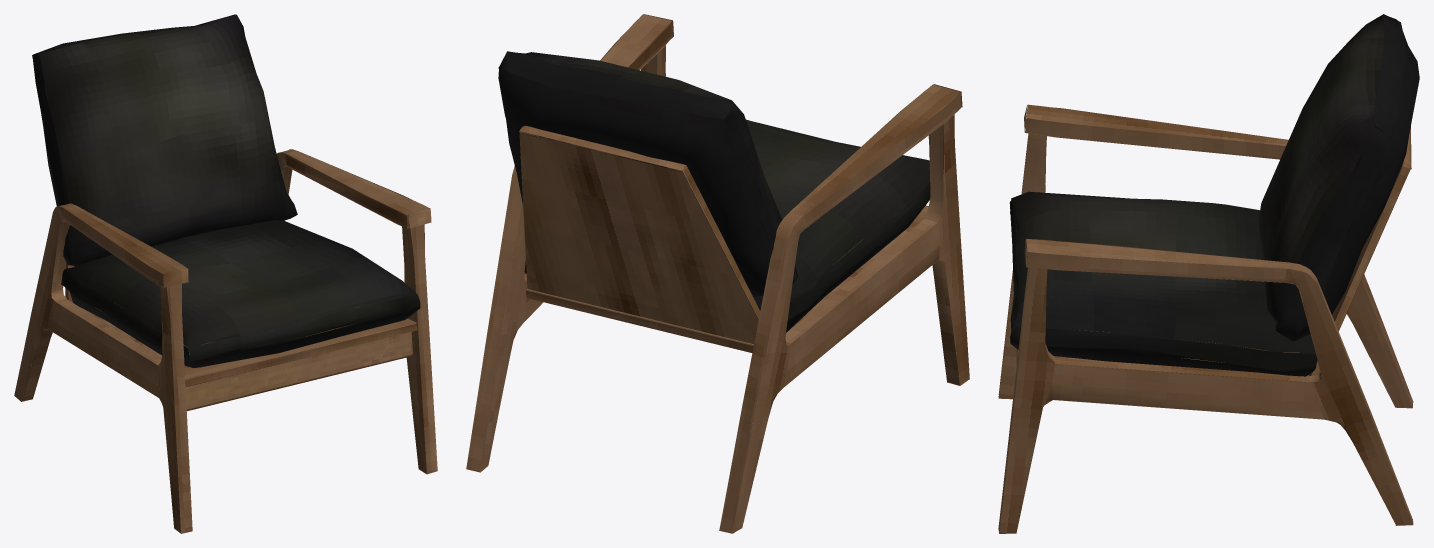
File: modern_arm_chair_01.glb
3 renders of one model, left to right at view 1: azimuth 30°, elevation 25°; view 2: azimuth 150°, elevation 25°; view 3: azimuth 270°, elevation 25°, orthographic. The views are drawn at different scales.
Parts seen in each view (by area): view 1: modern_arm_chair_01; view 2: modern_arm_chair_01; view 3: modern_arm_chair_01.
Part boxes in pixels (x1,y1,x2,y2): modern_arm_chair_01: (14, 14, 437, 533); modern_arm_chair_01: (466, 14, 969, 533); modern_arm_chair_01: (998, 14, 1419, 533).
Size of the model in its own units: 0.8191 by 1.02 by 0.9871.
2 materials, 2 textured.
